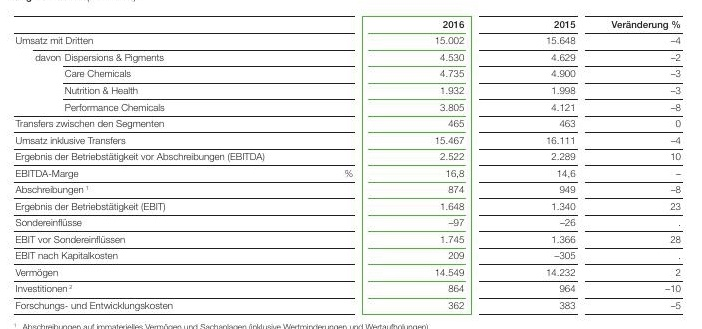table: (0, 0, 702, 329)
